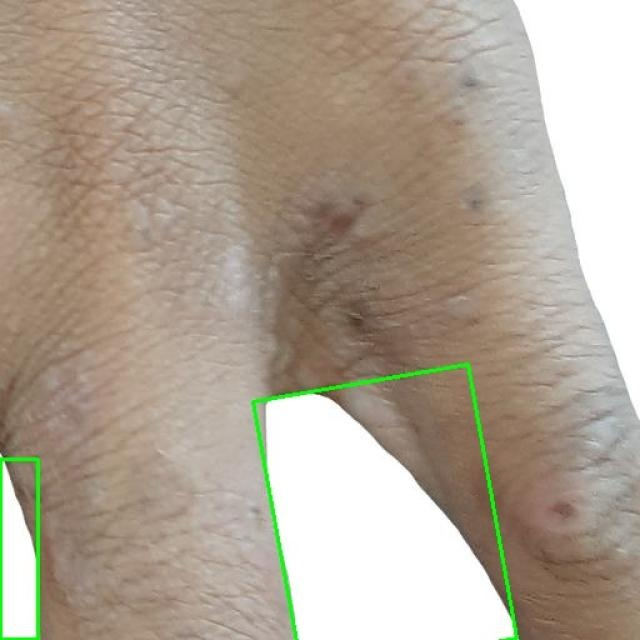Scabies: (253, 364, 517, 640), (0, 459, 38, 639)
